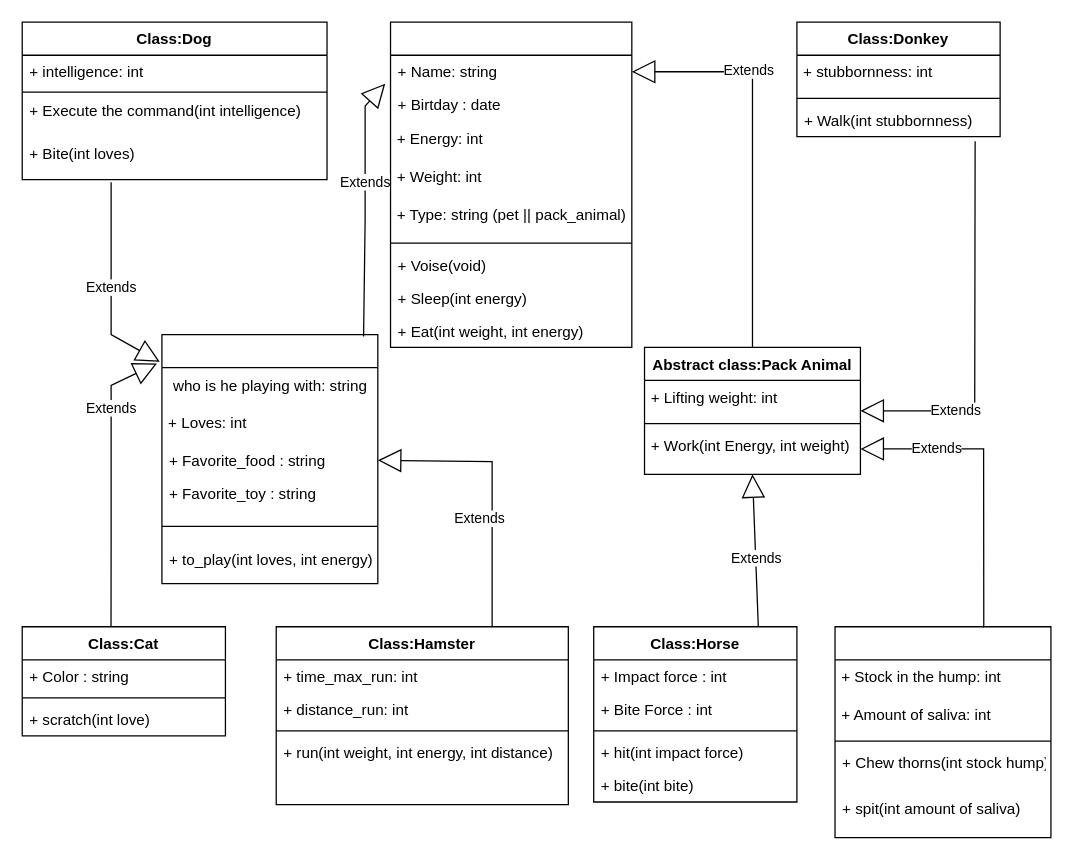
Some shapes in this 1073 by 864 pixel diagram are drawn without their labels. The box of each missing label's shape, as (x1, y1, x2, y2) in pixels:
Abstract class:Human Friend: (389, 21, 632, 347)
Abstract class:Pet: (161, 333, 378, 584)
Class:Camel: (834, 625, 1051, 838)
